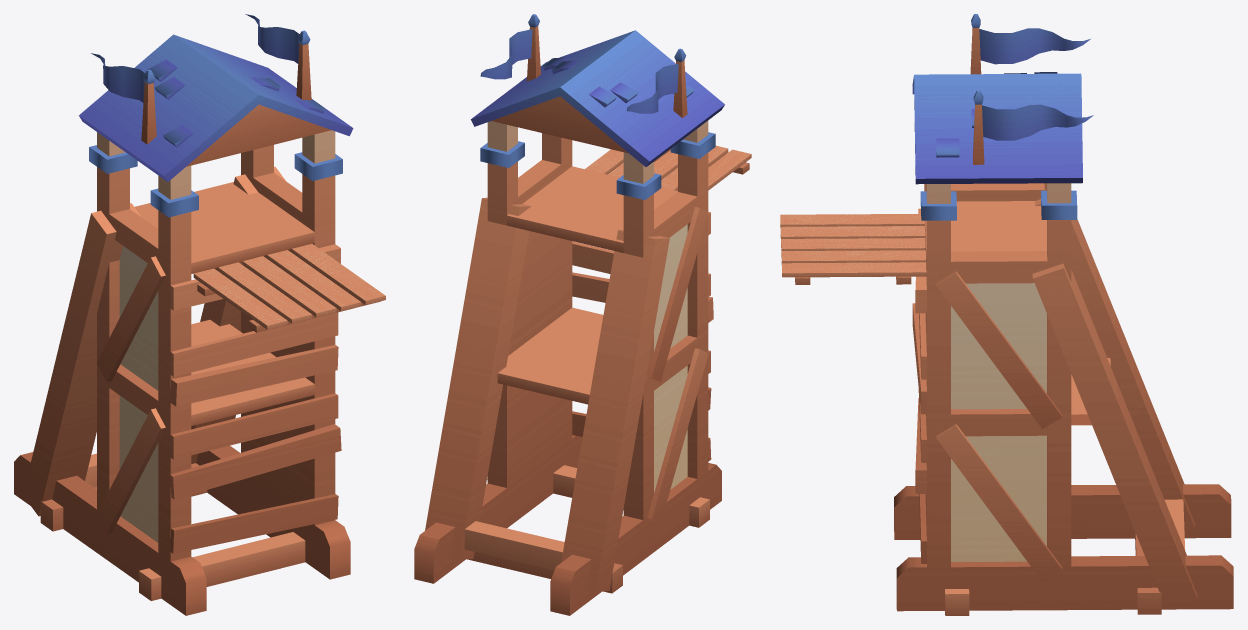
The model's file is siege-tower_lev3.glb.
The picture shows the model from 3 angles, left to right: view 1: azimuth 30°, elevation 25°; view 2: azimuth 150°, elevation 25°; view 3: azimuth 270°, elevation 25°; orthographic projection. The views are drawn at different scales.
Parts seen in each view (by area): view 1: siege-tower_lev3; view 2: siege-tower_lev3; view 3: siege-tower_lev3.
Boxes of the visible parts, box(x1,y1,x2,y2) form: siege-tower_lev3: box(14, 14, 385, 615); siege-tower_lev3: box(414, 14, 751, 615); siege-tower_lev3: box(780, 14, 1233, 615).
Bounding box in the file's own units: 5.8 × 14.76 × 11.74.
1 material, 1 textured.
